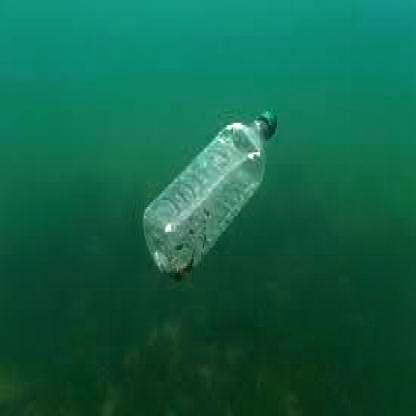pbottle: (138, 100, 284, 278)
